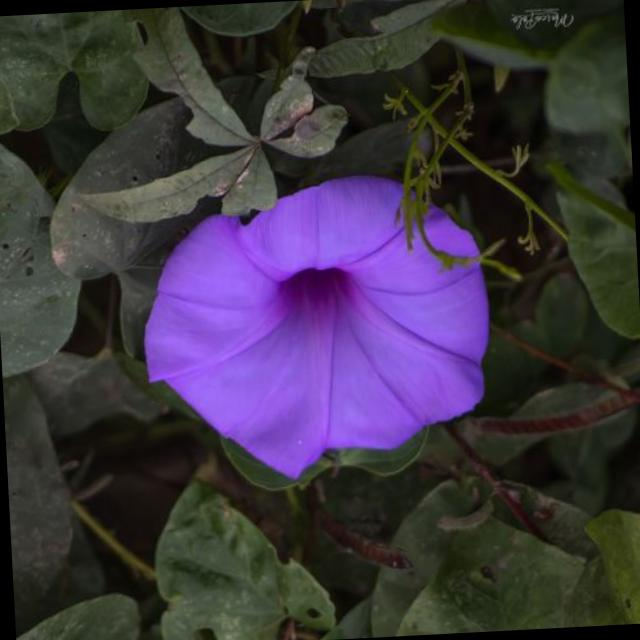ipomoea: (132, 165, 502, 490)
